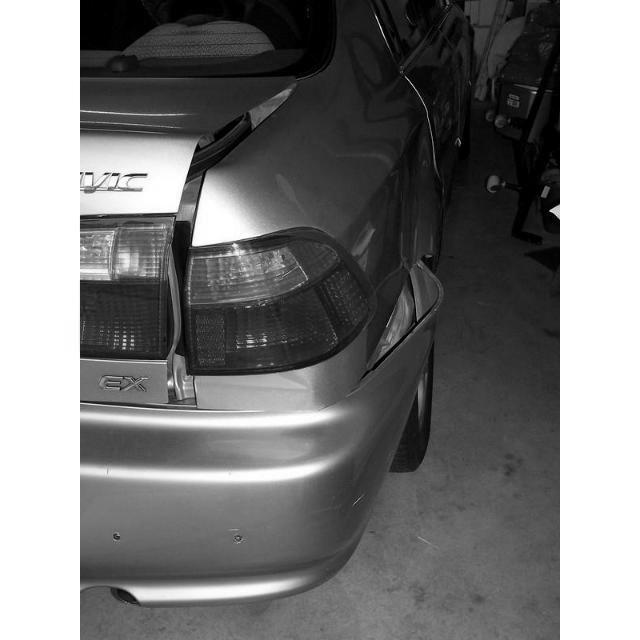boot-dent: (81, 125, 222, 410)
rear-bumper-dent: (80, 411, 416, 616)
